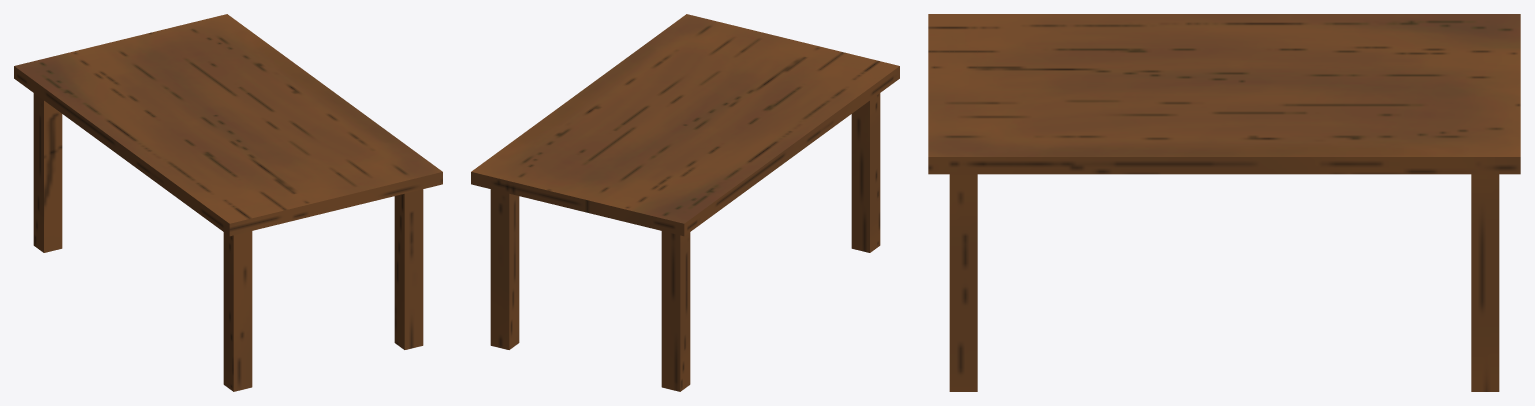
File: table-simple-00-col.glb
3 views of the same model, side by side, from view 1: azimuth 30°, elevation 25°; view 2: azimuth 150°, elevation 25°; view 3: azimuth 270°, elevation 25° (orthographic). The views are drawn at different scales.
Visible parts, largest first — view 1: Cube; view 2: Cube; view 3: Cube.
Boxes of the visible parts, x1,y1,x2,y2 form: Cube: (14, 14, 442, 391); Cube: (471, 14, 899, 391); Cube: (928, 14, 1520, 391).
Size of the model in its own units: 0.7997 by 0.6337 by 1.4.
1 material, 1 textured.
